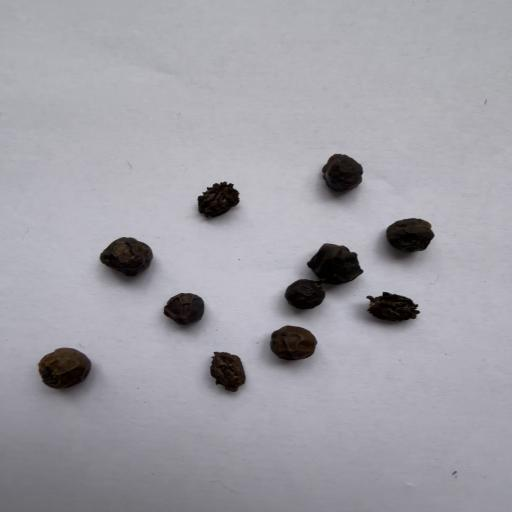Black_pepper: (74, 221, 154, 284), (298, 136, 370, 198), (12, 344, 98, 393), (371, 207, 436, 260), (284, 234, 359, 274), (148, 288, 204, 331), (254, 325, 321, 360), (284, 280, 337, 316)
papaya_seed: (180, 177, 253, 226), (361, 285, 419, 326), (204, 349, 250, 394)
